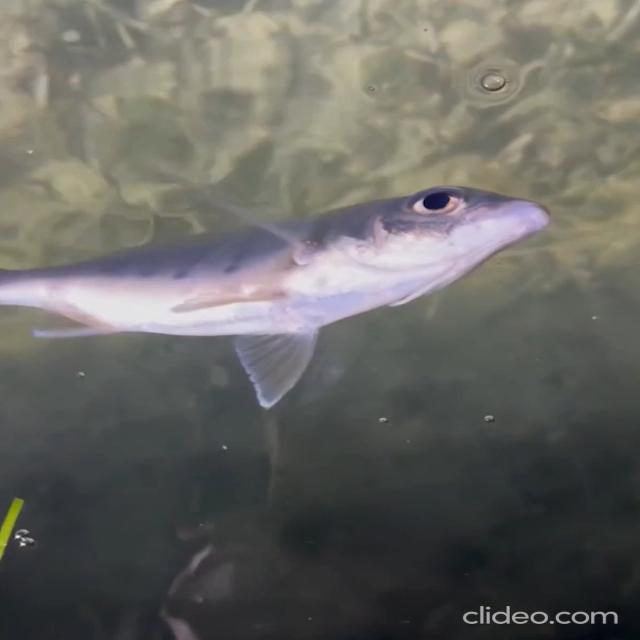fish: (0, 174, 573, 416)
